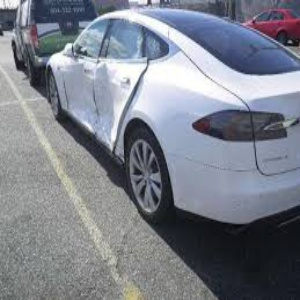door: (69, 65, 136, 115)
